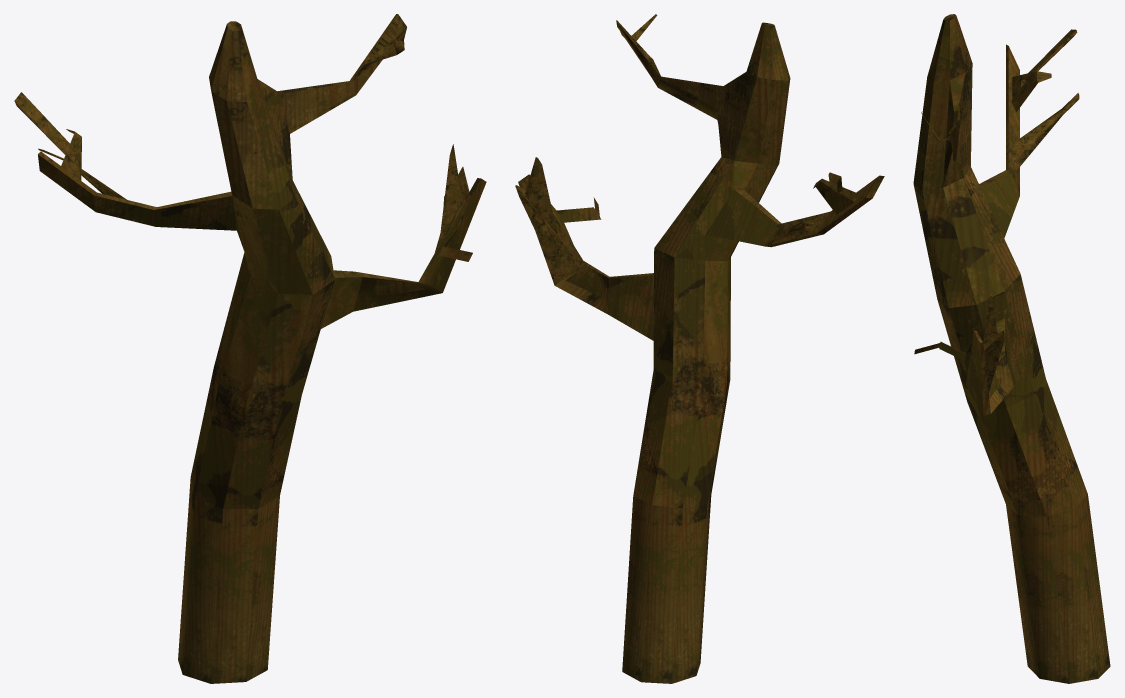
Rendered from Tree.obj.
3 renders of one model, left to right at view 1: azimuth 30°, elevation 25°; view 2: azimuth 150°, elevation 25°; view 3: azimuth 270°, elevation 25°, orthographic. The views are drawn at different scales.
Parts seen in each view (by area): view 1: Tree (1)_0, Tree (1)_1; view 2: Tree (1)_0, Tree (1)_1; view 3: Tree (1)_0, Tree (1)_1.
Part boxes in pixels (box(x1,y1,x2,y2)): Tree (1)_0: box(14, 14, 486, 683); Tree (1)_1: box(66, 14, 467, 311); Tree (1)_0: box(515, 14, 884, 683); Tree (1)_1: box(551, 20, 877, 314); Tree (1)_0: box(913, 14, 1110, 683); Tree (1)_1: box(943, 14, 1019, 413).
Size of the model in its own units: 5.4 by 8.35 by 2.38.
